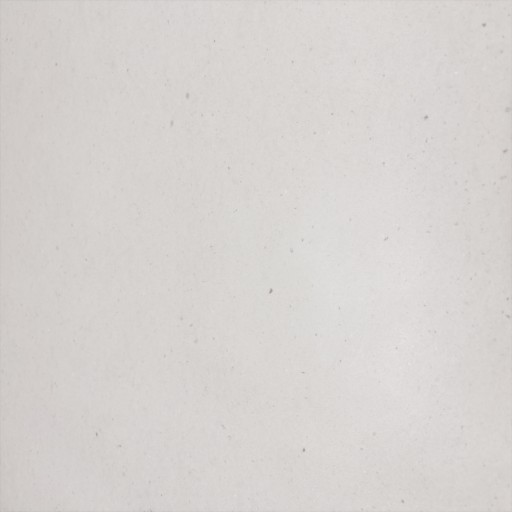lego: (236, 237, 274, 272)
